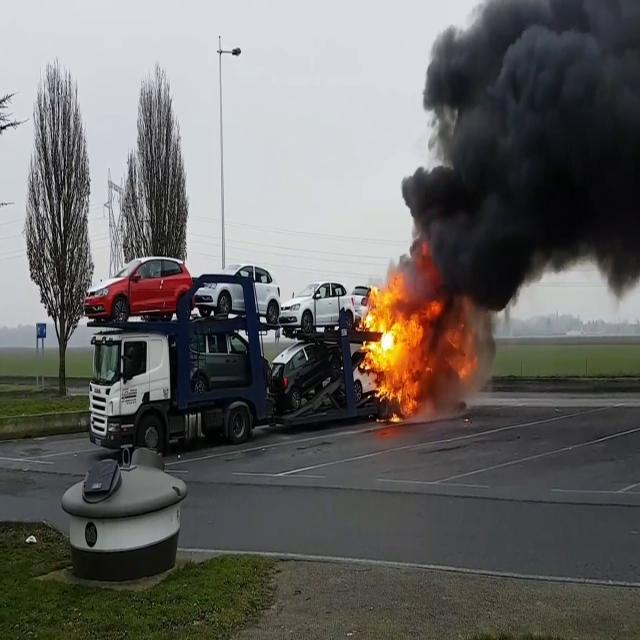Fire: (354, 271, 442, 413)
Smoke: (388, 0, 640, 320)
